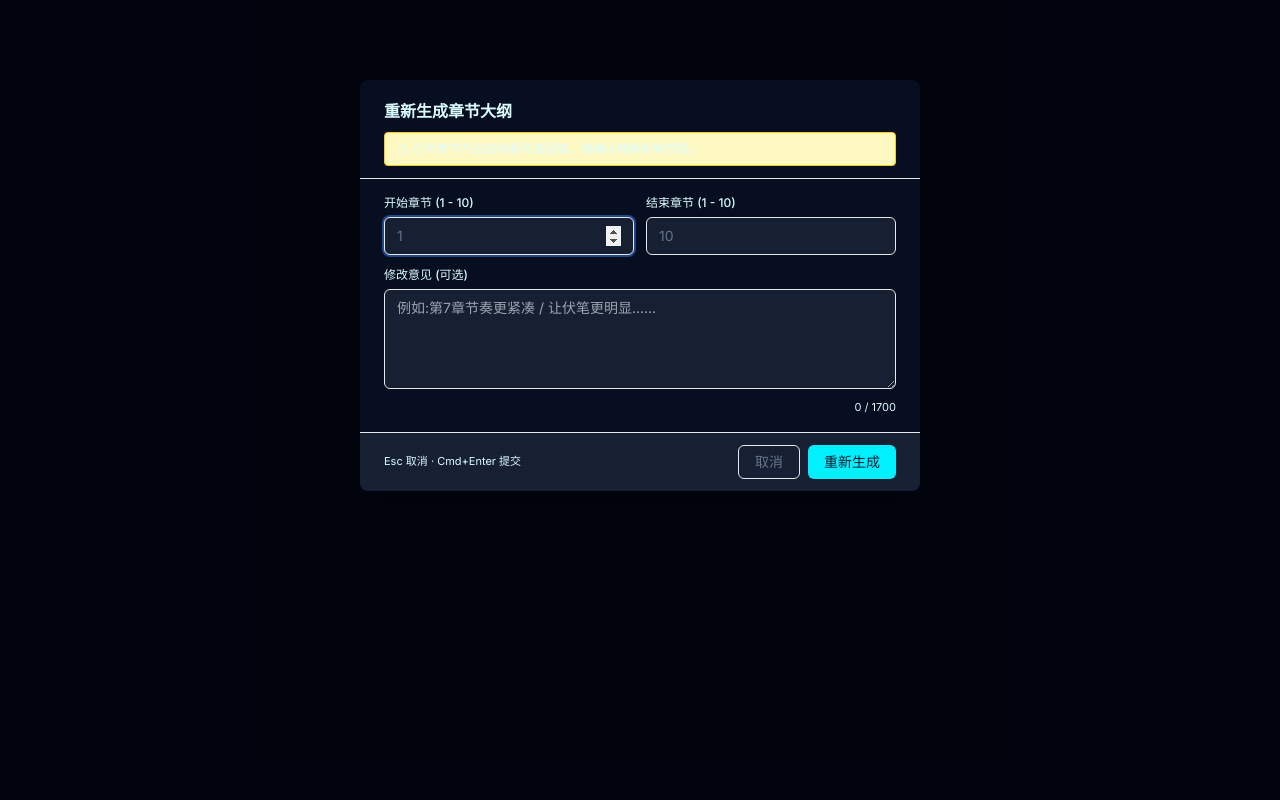
Test: ChapterRangeRegenerateModal › start > end disables confirm button (or shows error before submit)
Replace the text in the number field with test id "chapter-range-start" with "5": (509, 236) [384,217,634,255]
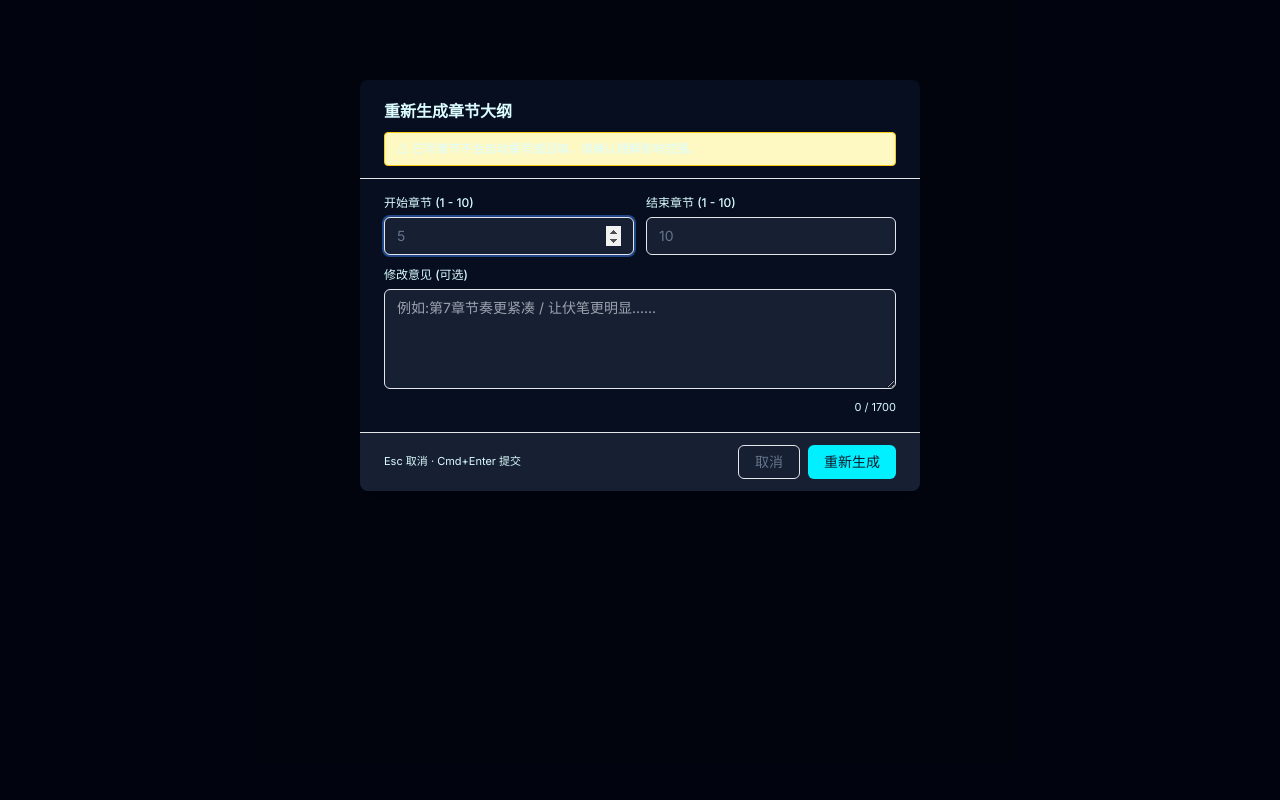
Replace the text in the number field with test id "chapter-range-end" with "3": (771, 236) [646,217,896,255]
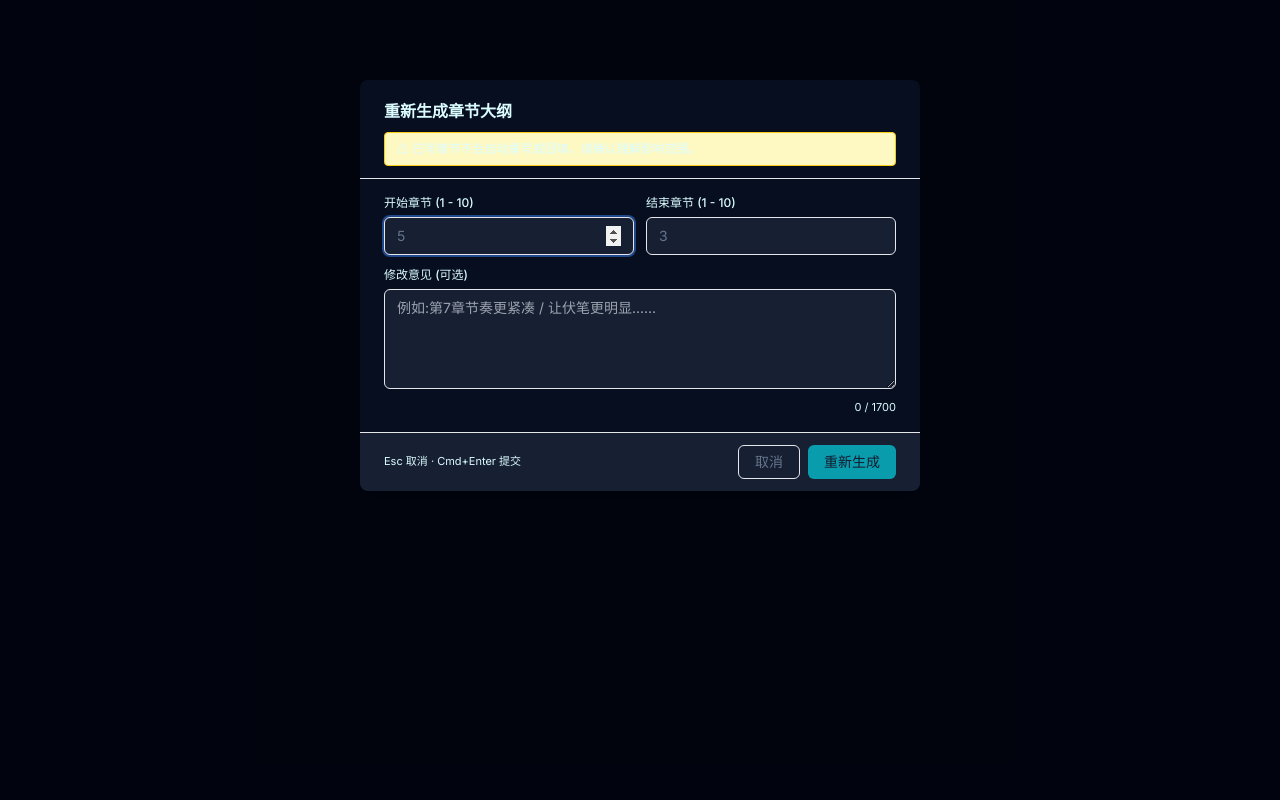
Expected: the button with test id "chapter-range-confirm" is disabled, [808,444,896,478]
